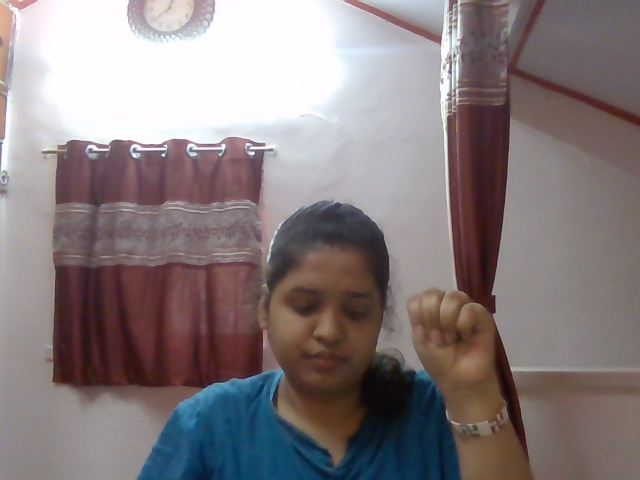m: (396, 280, 509, 395)
